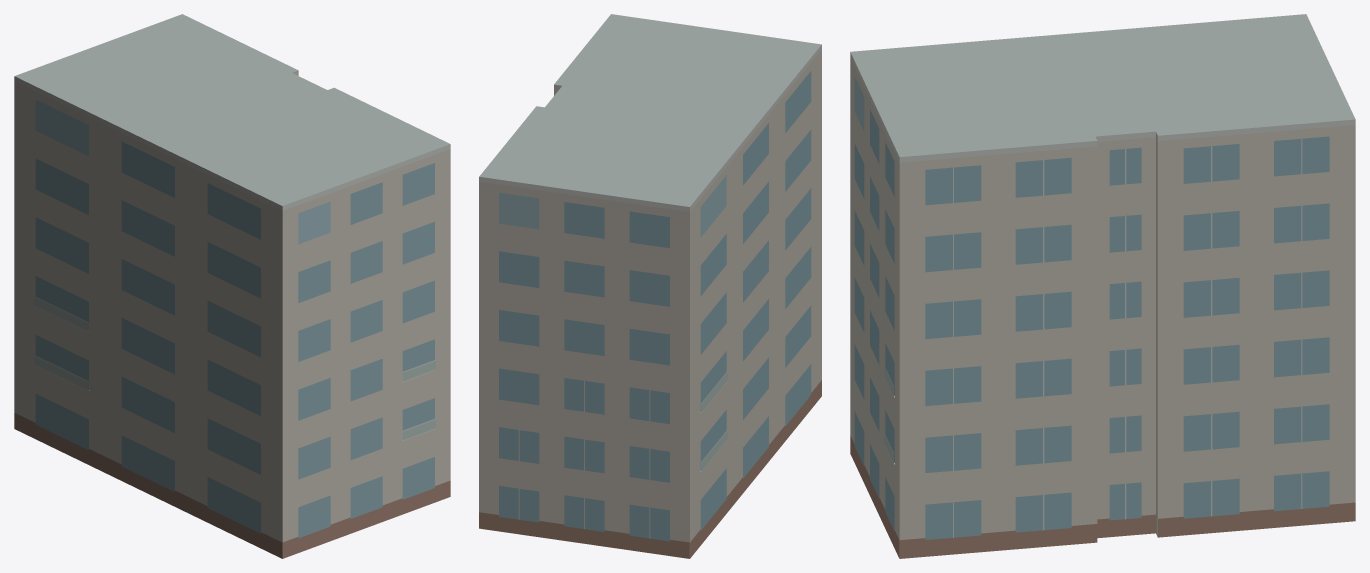
Rendered from survey-upis-32667258.glb.
3 renders of one model, left to right at view 1: azimuth 30°, elevation 25°; view 2: azimuth 150°, elevation 25°; view 3: azimuth 270°, elevation 25°, orthographic. The views are drawn at different scales.
Visible parts, largest first — view 1: survey-upis-32667258.tmp; view 2: survey-upis-32667258.tmp; view 3: survey-upis-32667258.tmp.
Boxes of the visible parts, left/top/right/bottom form: survey-upis-32667258.tmp: left=14, top=14, right=450, bottom=558; survey-upis-32667258.tmp: left=479, top=14, right=821, bottom=558; survey-upis-32667258.tmp: left=850, top=14, right=1355, bottom=558.
Size of the model in its own units: 13.31 by 17.4 by 19.85.
